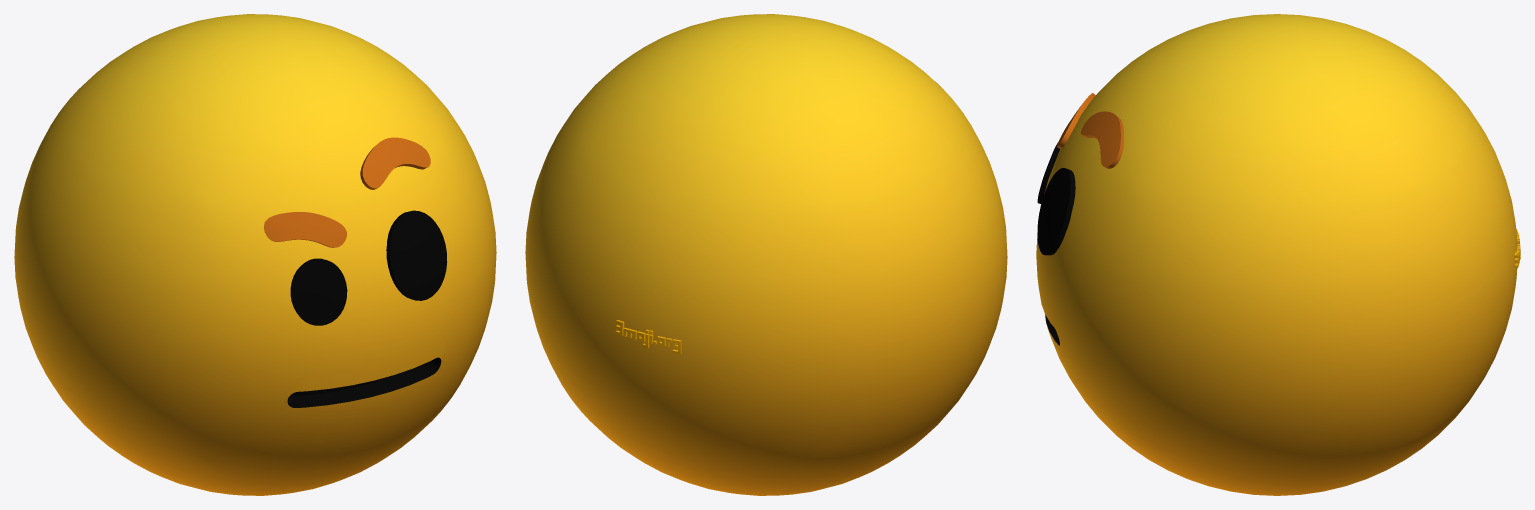
File: face_with_raised_eyebrow.glb
The picture shows the model from 3 angles, left to right: view 1: azimuth 30°, elevation 25°; view 2: azimuth 150°, elevation 25°; view 3: azimuth 270°, elevation 25°; orthographic projection.
Visible parts, largest first — view 1: face_with_raised_eyebrow; view 2: face_with_raised_eyebrow; view 3: face_with_raised_eyebrow.
Part boxes in pixels (x1=…): face_with_raised_eyebrow: x1=14, y1=14, x2=496, y2=495; face_with_raised_eyebrow: x1=525, y1=14, x2=1007, y2=495; face_with_raised_eyebrow: x1=1036, y1=14, x2=1520, y2=495.
Bounding box in the file's own units: 1.69 × 1.69 × 1.7.
1 material, 1 textured.
